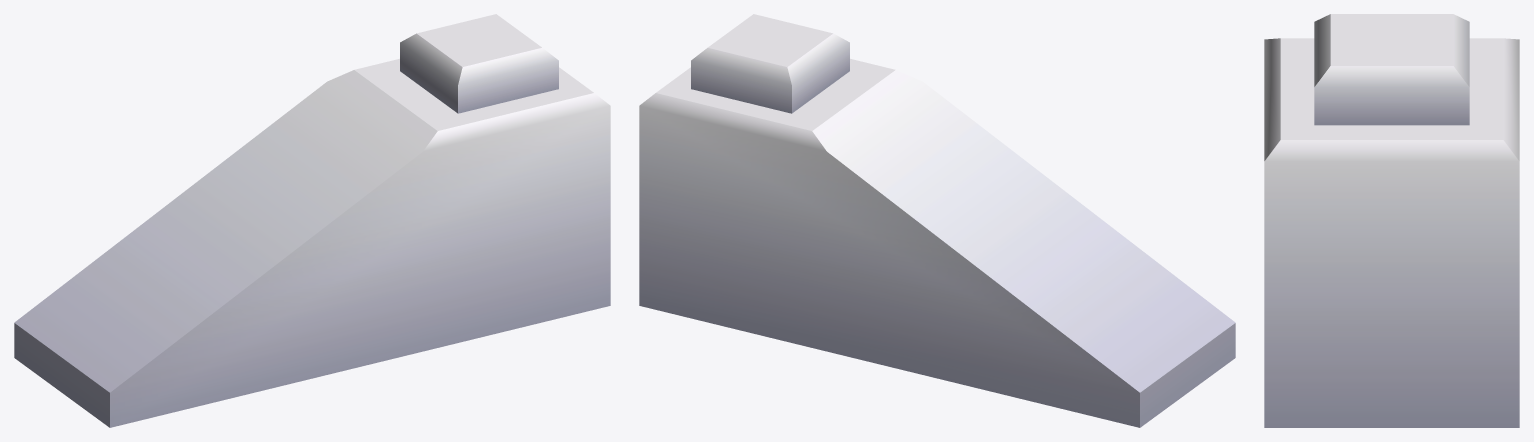
File: kenney-brick-square-hq-brick-slope-3-x-1.glb
3 renders of one model, left to right at view 1: azimuth 30°, elevation 25°; view 2: azimuth 150°, elevation 25°; view 3: azimuth 270°, elevation 25°, orthographic. The views are drawn at different scales.
Parts seen in each view (by area): view 1: square-hq-brick-slope-3x1; view 2: square-hq-brick-slope-3x1; view 3: square-hq-brick-slope-3x1.
Boxes of the visible parts, left/top/right/bottom form: square-hq-brick-slope-3x1: left=14, top=14, right=610, bottom=427; square-hq-brick-slope-3x1: left=639, top=14, right=1235, bottom=427; square-hq-brick-slope-3x1: left=1264, top=14, right=1519, bottom=427.
Size of the model in its own units: 0.2385 by 0.114 by 0.079.
1 material, 1 textured.
